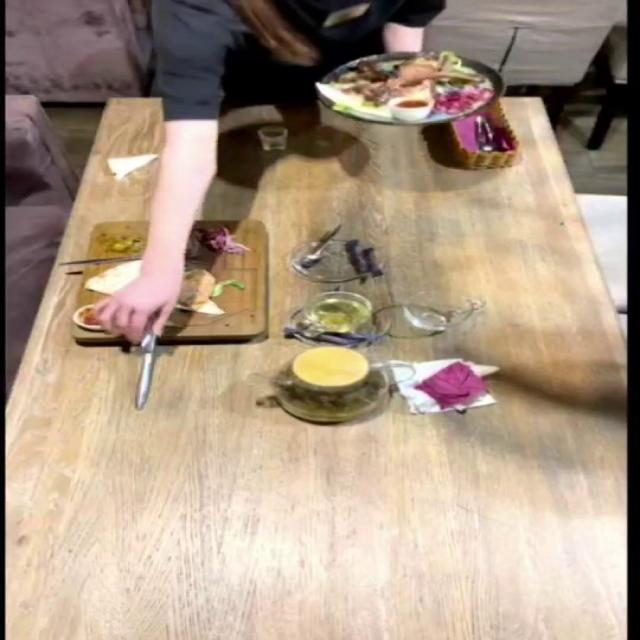meat: (316, 52, 496, 122)
tea: (253, 347, 402, 430)
